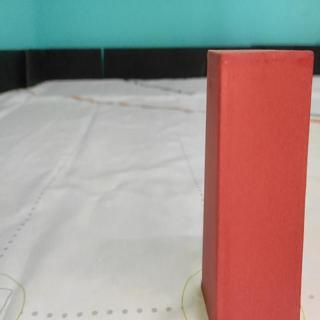redbox: (199, 47, 313, 320)
